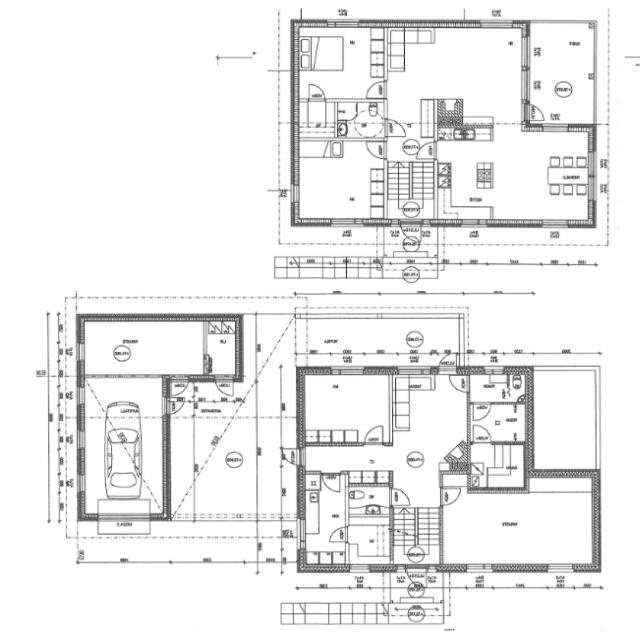door: (400, 219, 421, 247), (406, 564, 426, 592), (438, 348, 457, 375), (279, 448, 306, 465), (163, 397, 189, 414), (522, 104, 548, 121), (215, 375, 233, 399), (415, 142, 438, 159), (322, 471, 340, 492), (365, 425, 383, 446), (384, 119, 406, 136), (172, 375, 188, 397), (366, 143, 388, 159), (366, 81, 388, 97), (474, 424, 491, 444), (390, 489, 411, 505), (440, 489, 460, 505), (473, 402, 490, 420), (309, 83, 325, 102), (329, 527, 348, 542), (451, 377, 470, 392)
